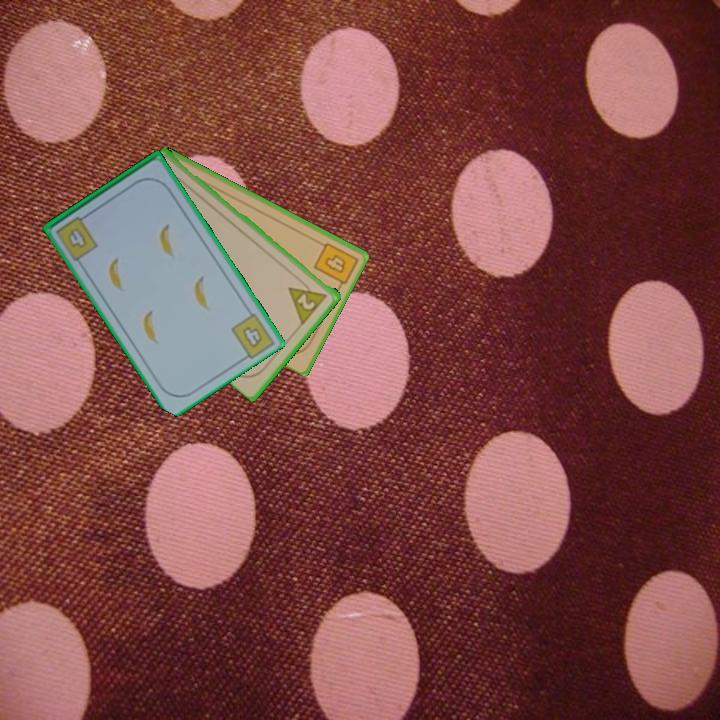2p: (285, 275, 331, 326)
4b: (310, 238, 360, 292), (52, 210, 101, 262), (239, 323, 266, 351)
